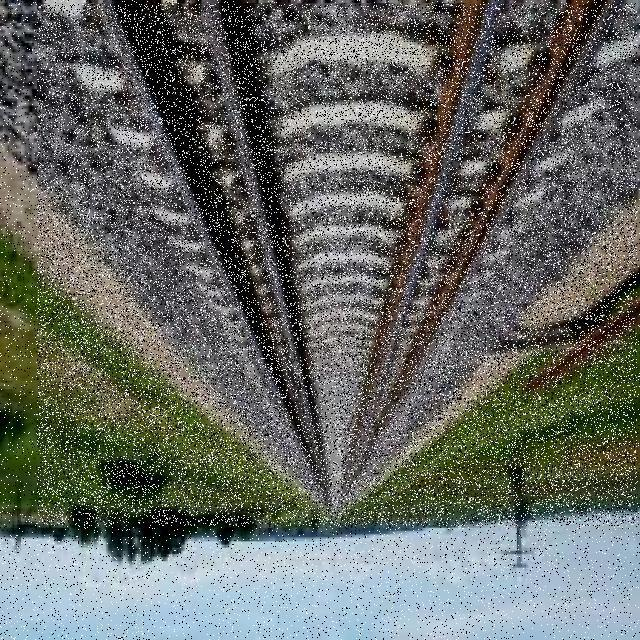rail: (37, 5, 637, 526)
